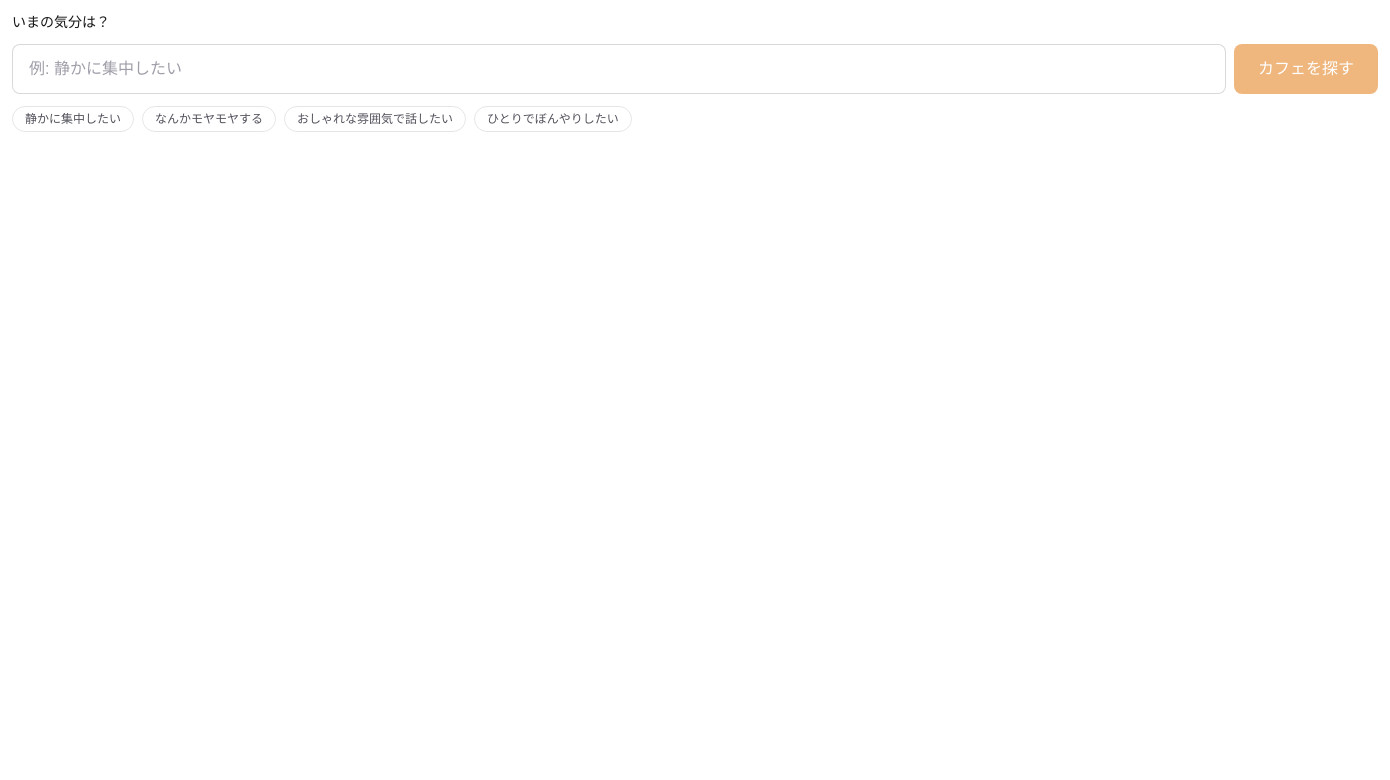
Scenario: MoodRecommender（統合） › 送信するとカードが表示される
Type "静かに集中したい" into the field labelled "いまの気分は？".
click(619, 69); type("静かに集中したい")  # box [12,44,1226,94]
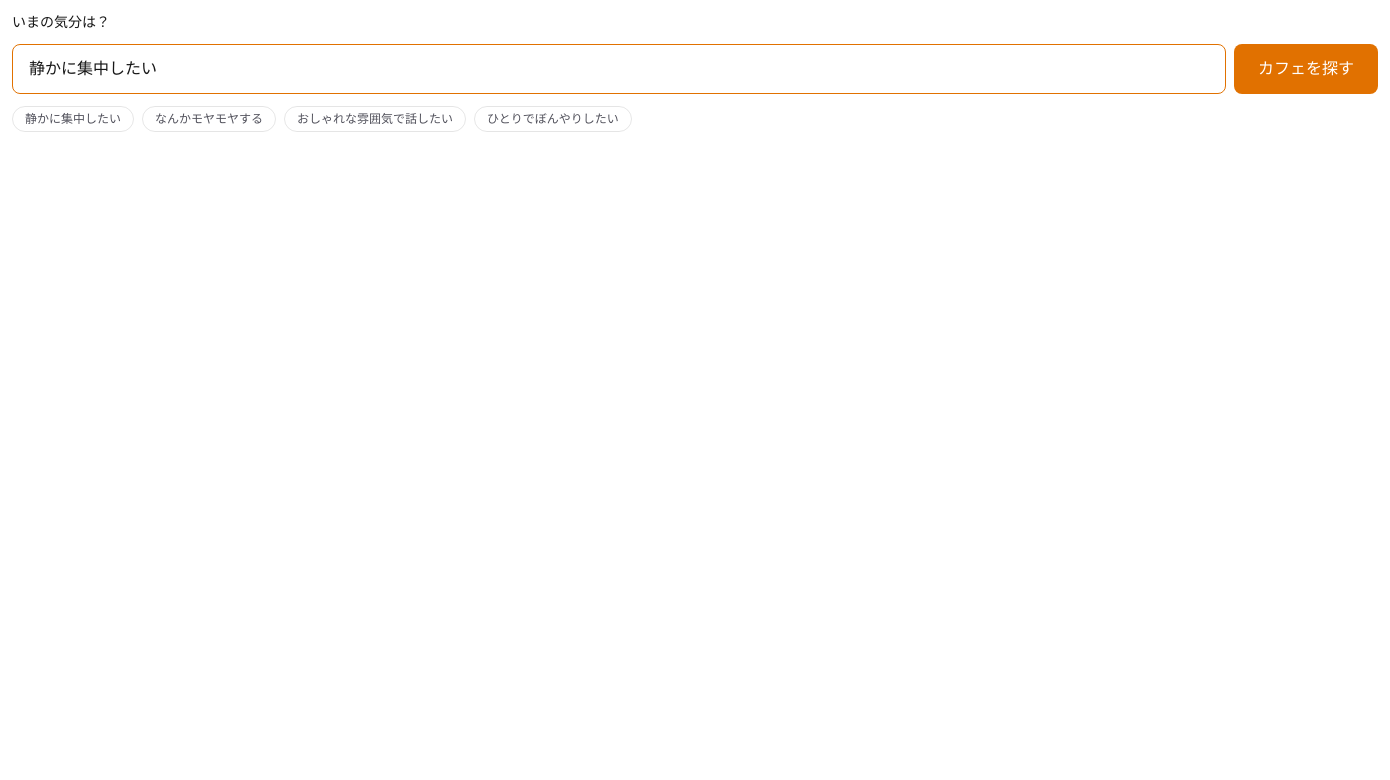
Click the button "カフェを探す".
click(1306, 69)  # box [1234,44,1378,94]
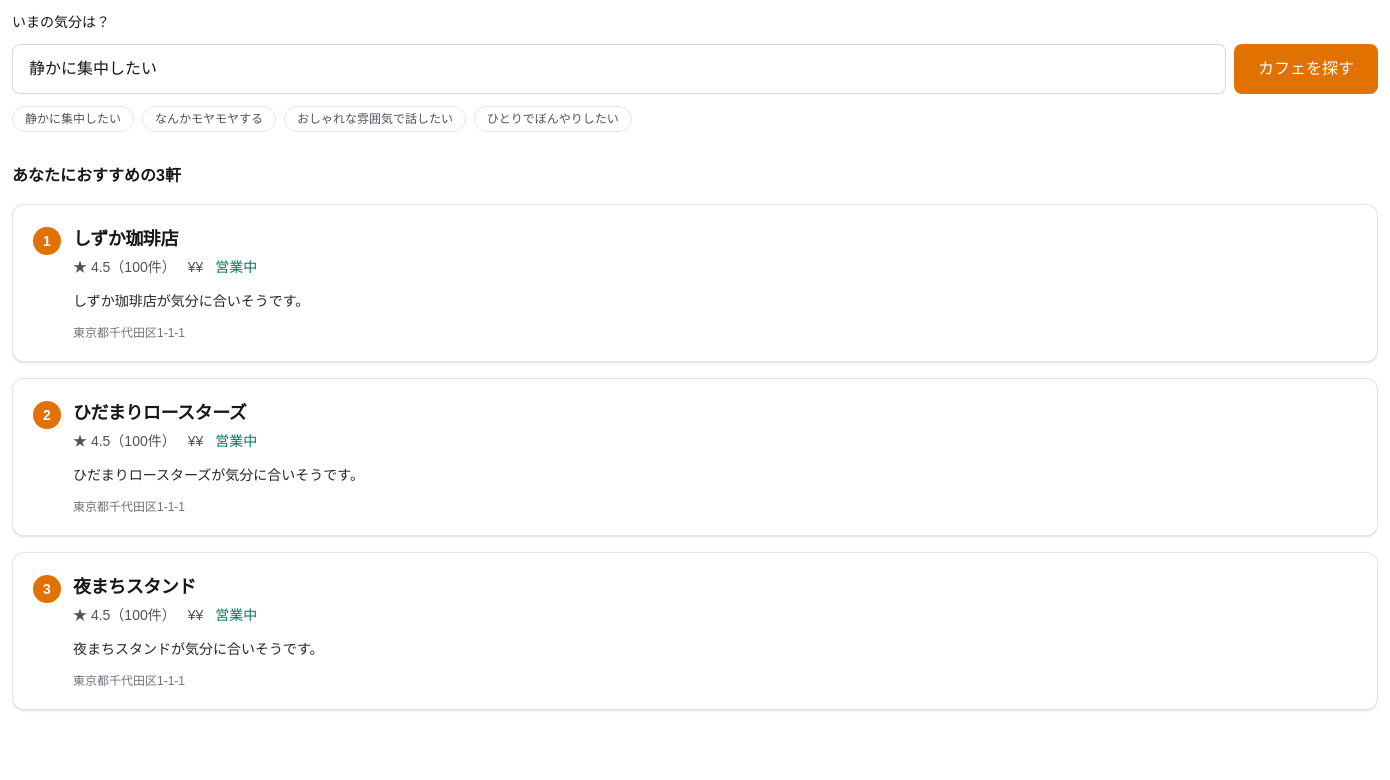
Expected: the heading "しずか珈琲店" is shown, [73,229,178,249]
Expected: the heading "夜まちスタンド" is shown, [73,577,196,597]
